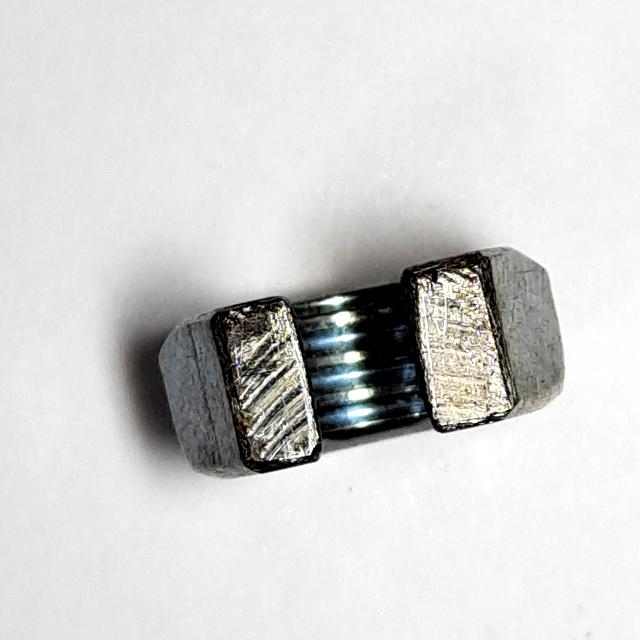Side-Fracture: (145, 226, 579, 503)
